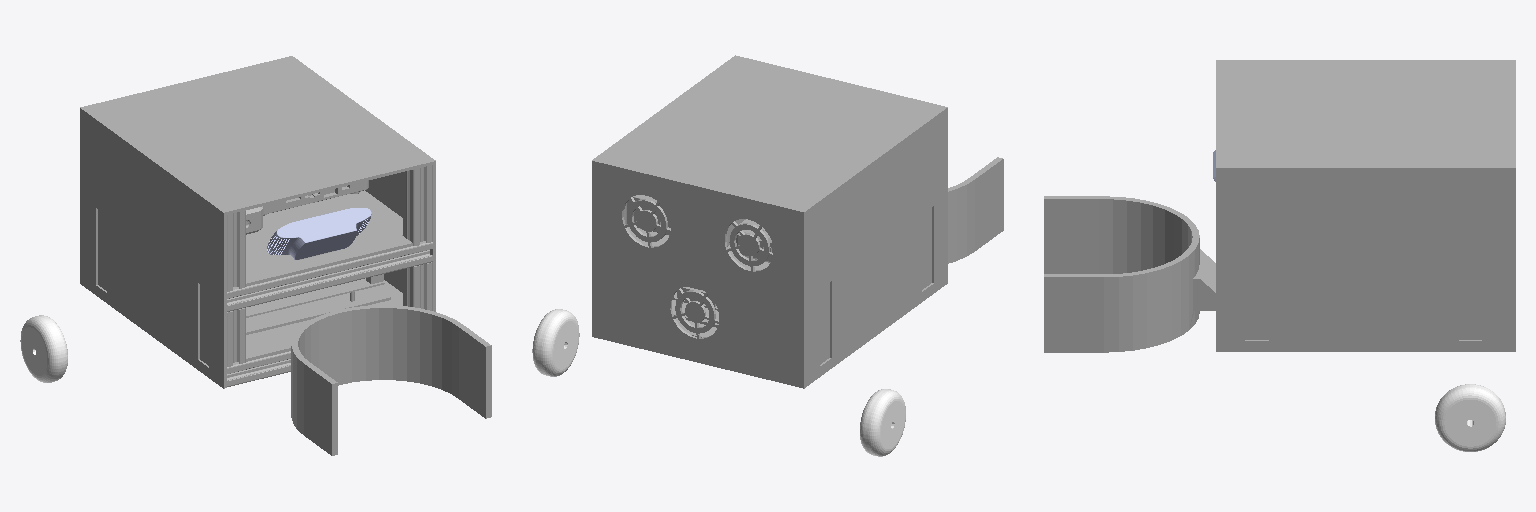
robot.urdf — 4wheel:
<?xml version="1.0" encoding="utf-8"?>
<!-- This URDF was automatically created by SolidWorks to URDF Exporter! Originally created by [author] ([email redacted]) 
     Commit Version: 1.5.1-0-g916b5db  Build Version: 1.5.7152.31018
     For more information, please see http://wiki.ros.org/sw_urdf_exporter -->
<robot
  name="4wheel">
  <link
    name="Body">
    <inertial>
      <origin
        xyz="0.108885138044438 0.142308649679038 0.0585567936495662"
        rpy="0 0 0" />
      <mass
        value="5.32485366509137" />
      <inertia
        ixx="0.0219378727233069"
        ixy="1.47975198134048E-06"
        ixz="-4.01751561825009E-06"
        iyy="0.0149047739346839"
        iyz="7.80337093935876E-06"
        izz="0.023203020823872" />
    </inertial>
    <visual>
      <origin
        xyz="0 0 0"
        rpy="0 0 0" />
      <geometry>
        <mesh
          filename="package://4wheel/meshes/Body.STL" />
      </geometry>
      <material
        name="">
        <color
          rgba="0.752941176470588 0.752941176470588 0.752941176470588 1" />
      </material>
    </visual>
    <collision>
      <origin
        xyz="0 0 0"
        rpy="0 0 0" />
      <geometry>
        <mesh
          filename="package://4wheel/meshes/Body.STL" />
      </geometry>
    </collision>
  </link>
  <link
    name="LFS">
    <inertial>
      <origin
        xyz="0.0666875210853818 -0.0256174029954353 0.0272583251967585"
        rpy="0 0 0" />
      <mass
        value="0.26437001106024" />
      <inertia
        ixx="3.20746276473133E-05"
        ixy="-1.44118283521332E-07"
        ixz="-6.3085308434461E-08"
        iyy="6.22704126338855E-05"
        iyz="-2.01894652764198E-07"
        izz="6.28519936954E-05" />
    </inertial>
    <visual>
      <origin
        xyz="0 0 0"
        rpy="0 0 0" />
      <geometry>
        <mesh
          filename="package://4wheel/meshes/LFS.STL" />
      </geometry>
      <material
        name="">
        <color
          rgba="0.752941176470588 0.752941176470588 0.752941176470588 1" />
      </material>
    </visual>
    <collision>
      <origin
        xyz="0 0 0"
        rpy="0 0 0" />
      <geometry>
        <mesh
          filename="package://4wheel/meshes/LFS.STL" />
      </geometry>
    </collision>
  </link>
  <joint
    name="LFS"
    type="prismatic">
    <origin
      xyz="0.315160991135077 0.0508115623588095 0.0264270997401359"
      rpy="2.8339623757072 0 3.14159265358979" />
    <parent
      link="Body" />
    <child
      link="LFS" />
    <axis
      xyz="0 0.302801016091279 -0.953053799454201" />
    <limit
      lower="0"
      upper="0"
      effort="0"
      velocity="0" />
  </joint>
  <link
    name="LFW">
    <inertial>
      <origin
        xyz="-0.00841099113507676 0 0"
        rpy="0 0 0" />
      <mass
        value="0.238771211024829" />
      <inertia
        ixx="0.000299070391410014"
        ixy="-1.55250782770794E-21"
        ixz="2.56332672441179E-22"
        iyy="0.000167368400731884"
        iyz="0"
        izz="0.000167368400731884" />
    </inertial>
    <visual>
      <origin
        xyz="0 0 0"
        rpy="0 0 0" />
      <geometry>
        <mesh
          filename="package://4wheel/meshes/LFW.STL" />
      </geometry>
      <material
        name="">
        <color
          rgba="1 1 1 1" />
      </material>
    </visual>
    <collision>
      <origin
        xyz="0 0 0"
        rpy="0 0 0" />
      <geometry>
        <mesh
          filename="package://4wheel/meshes/LFW.STL" />
      </geometry>
    </collision>
  </link>
  <joint
    name="LFW"
    type="continuous">
    <origin
      xyz="0 -0.047479 0.052309"
      rpy="-2.4847 0 3.1416" />
    <parent
      link="LFS" />
    <child
      link="LFW" />
    <axis
      xyz="1 0 0" />
    <limit
      effort="3.1"
      velocity="7" />
  </joint>
  <link
    name="RFS">
    <inertial>
      <origin
        xyz="0.0724473276378503 -0.0316832521314763 0.0253402400459297"
        rpy="0 0 0" />
      <mass
        value="0.26437001106024" />
      <inertia
        ixx="3.20746276473134E-05"
        ixy="1.44118283521343E-07"
        ixz="6.30853084344519E-08"
        iyy="6.22704126338856E-05"
        iyz="-2.01894652764195E-07"
        izz="6.28519936954001E-05" />
    </inertial>
    <visual>
      <origin
        xyz="0 0 0"
        rpy="0 0 0" />
      <geometry>
        <mesh
          filename="package://4wheel/meshes/RFS.STL" />
      </geometry>
      <material
        name="">
        <color
          rgba="0.752941176470588 0.752941176470588 0.752941176470588 1" />
      </material>
    </visual>
    <collision>
      <origin
        xyz="0 0 0"
        rpy="0 0 0" />
      <geometry>
        <mesh
          filename="package://4wheel/meshes/RFS.STL" />
      </geometry>
    </collision>
  </link>
  <joint
    name="RFS"
    type="prismatic">
    <origin
      xyz="-0.10492 0.012128 0.026427"
      rpy="2.834 0 0" />
    <parent
      link="Body" />
    <child
      link="RFS" />
    <axis
      xyz="0 0.3028 -0.95305" />
    <limit
      lower="0"
      upper="0"
      effort="0"
      velocity="0" />
  </joint>
  <link
    name="RFW">
    <inertial>
      <origin
        xyz="-0.0141707976875452 -3.46944695195361E-18 0"
        rpy="0 0 0" />
      <mass
        value="0.238771211024828" />
      <inertia
        ixx="0.000299070391410013"
        ixy="7.60876064294631E-22"
        ixz="1.92785199737845E-21"
        iyy="0.000167368400731884"
        iyz="8.470329472543E-22"
        izz="0.000167368400731884" />
    </inertial>
    <visual>
      <origin
        xyz="0 0 0"
        rpy="0 0 0" />
      <geometry>
        <mesh
          filename="package://4wheel/meshes/RFW.STL" />
      </geometry>
      <material
        name="">
        <color
          rgba="1 1 1 1" />
      </material>
    </visual>
    <collision>
      <origin
        xyz="0 0 0"
        rpy="0 0 0" />
      <geometry>
        <mesh
          filename="package://4wheel/meshes/RFW.STL" />
      </geometry>
    </collision>
  </link>
  <joint
    name="RFW"
    type="continuous">
    <origin
      xyz="0 -0.028286 0.058405"
      rpy="-0.36547 0 3.1416" />
    <parent
      link="RFS" />
    <child
      link="RFW" />
    <axis
      xyz="-1 0 0" />
    <limit
      effort="3.1"
      velocity="7" />
  </joint>
  <link
    name="LBS">
    <inertial>
      <origin
        xyz="0.0754022136877308 -0.0206011352566388 0.0126264314730555"
        rpy="0 0 0" />
      <mass
        value="0.197009126147877" />
      <inertia
        ixx="1.68802738687172E-05"
        ixy="-4.8069344421324E-21"
        ixz="2.20361547124267E-20"
        iyy="5.02184885667569E-05"
        iyz="1.0508875929185E-06"
        izz="4.72447473350486E-05" />
    </inertial>
    <visual>
      <origin
        xyz="0 0 0"
        rpy="0 0 0" />
      <geometry>
        <mesh
          filename="package://4wheel/meshes/LBS.STL" />
      </geometry>
      <material
        name="">
        <color
          rgba="0.752941176470588 0.752941176470588 0.752941176470588 1" />
      </material>
    </visual>
    <collision>
      <origin
        xyz="0 0 0"
        rpy="0 0 0" />
      <geometry>
        <mesh
          filename="package://4wheel/meshes/LBS.STL" />
      </geometry>
    </collision>
  </link>
  <joint
    name="LBS"
    type="prismatic">
    <origin
      xyz="0.31516 0.23081 0.01777"
      rpy="2.834 0 3.1416" />
    <parent
      link="Body" />
    <child
      link="LBS" />
    <axis
      xyz="0 0.3028 -0.95305" />
    <limit
      lower="0"
      upper="0"
      effort="0"
      velocity="0" />
  </joint>
  <link
    name="LBC">
    <inertial>
      <origin
        xyz="3.69517158149701E-07 -0.0414091858174605 0"
        rpy="0 0 0" />
      <mass
        value="0.0227542250833331" />
      <inertia
        ixx="9.89955638664047E-06"
        ixy="2.38712140060369E-10"
        ixz="-8.13631800520925E-22"
        iyy="3.71555891872553E-06"
        iyz="8.40860599391821E-22"
        izz="1.08253870221592E-05" />
    </inertial>
    <visual>
      <origin
        xyz="0 0 0"
        rpy="0 0 0" />
      <geometry>
        <mesh
          filename="package://4wheel/meshes/LBC.STL" />
      </geometry>
      <material
        name="">
        <color
          rgba="0.792156862745098 0.819607843137255 0.933333333333333 1" />
      </material>
    </visual>
    <collision>
      <origin
        xyz="0 0 0"
        rpy="0 0 0" />
      <geometry>
        <mesh
          filename="package://4wheel/meshes/LBC.STL" />
      </geometry>
    </collision>
  </link>
  <joint
    name="LBC"
    type="continuous">
    <origin
      xyz="0.0411609911350768 -0.0168161225554978 0.000713258979877972"
      rpy="-1.87842660467749 0 3.14159265358979" />
    <parent
      link="LBS" />
    <child
      link="LBC" />
    <axis
      xyz="0 1 0" />
  </joint>
  <link
    name="LBW">
    <inertial>
      <origin
        xyz="-1.26692255714156E-05 0 0"
        rpy="0 0 0" />
      <mass
        value="0.0520359417797529" />
      <inertia
        ixx="2.19659115893153E-05"
        ixy="-1.00333801524274E-21"
        ixz="1.13493085902278E-21"
        iyy="1.25404547339816E-05"
        iyz="0"
        izz="1.25404547339816E-05" />
    </inertial>
    <visual>
      <origin
        xyz="0 0 0"
        rpy="0 0 0" />
      <geometry>
        <mesh
          filename="package://4wheel/meshes/LBW.STL" />
      </geometry>
      <material
        name="">
        <color
          rgba="1 1 1 1" />
      </material>
    </visual>
    <collision>
      <origin
        xyz="0 0 0"
        rpy="0 0 0" />
      <geometry>
        <mesh
          filename="package://4wheel/meshes/LBW.STL" />
      </geometry>
    </collision>
  </link>
  <joint
    name="LBW"
    type="continuous">
    <origin
      xyz="0 -0.0698 0"
      rpy="-2.9677 0 0" />
    <parent
      link="LBC" />
    <child
      link="LBW" />
    <axis
      xyz="1 0 0" />
    <limit
      effort="3.1"
      velocity="7" />
  </joint>
  <link
    name="RBS">
    <inertial>
      <origin
        xyz="0.0754022136877307 -0.0206011352566361 0.0126264314730565"
        rpy="0 0 0" />
      <mass
        value="0.197009126147877" />
      <inertia
        ixx="1.68802738687172E-05"
        ixy="1.02896294767269E-20"
        ixz="-2.43487583017138E-20"
        iyy="5.0218488566757E-05"
        iyz="1.0508875929185E-06"
        izz="4.72447473350487E-05" />
    </inertial>
    <visual>
      <origin
        xyz="0 0 0"
        rpy="0 0 0" />
      <geometry>
        <mesh
          filename="package://4wheel/meshes/RBS.STL" />
      </geometry>
      <material
        name="">
        <color
          rgba="0.752941176470588 0.752941176470588 0.752941176470588 1" />
      </material>
    </visual>
    <collision>
      <origin
        xyz="0 0 0"
        rpy="0 0 0" />
      <geometry>
        <mesh
          filename="package://4wheel/meshes/RBS.STL" />
      </geometry>
    </collision>
  </link>
  <joint
    name="RBS"
    type="prismatic">
    <origin
      xyz="-0.099161 0.19919 0.01777"
      rpy="2.834 0 0" />
    <parent
      link="Body" />
    <child
      link="RBS" />
    <axis
      xyz="0 0.3028 -0.95305" />
    <limit
      lower="0"
      upper="0"
      effort="0"
      velocity="0" />
  </joint>
  <link
    name="RBC">
    <inertial>
      <origin
        xyz="3.6951715815664E-07 -0.0414091858174606 0"
        rpy="0 0 0" />
      <mass
        value="0.0227542250833332" />
      <inertia
        ixx="9.89955638664048E-06"
        ixy="2.38712140064222E-10"
        ixz="5.55865371635635E-22"
        iyy="3.71555891872553E-06"
        iyz="-1.04594403517916E-21"
        izz="1.08253870221592E-05" />
    </inertial>
    <visual>
      <origin
        xyz="0 0 0"
        rpy="0 0 0" />
      <geometry>
        <mesh
          filename="package://4wheel/meshes/RBC.STL" />
      </geometry>
      <material
        name="">
        <color
          rgba="0.792156862745098 0.819607843137255 0.933333333333333 1" />
      </material>
    </visual>
    <collision>
      <origin
        xyz="0 0 0"
        rpy="0 0 0" />
      <geometry>
        <mesh
          filename="package://4wheel/meshes/RBC.STL" />
      </geometry>
    </collision>
  </link>
  <joint
    name="RBC"
    type="continuous">
    <origin
      xyz="0.0411609911350767 -0.0168161225554951 0.000713258979878978"
      rpy="-1.26320346041911 0.00487553880916033 -0.0153462827143552" />
    <parent
      link="RBS" />
    <child
      link="RBC" />
    <axis
      xyz="0 1 0" />
  </joint>
  <link
    name="RBW">
    <inertial>
      <origin
        xyz="-1.2669225571485E-05 0 0"
        rpy="0 0 0" />
      <mass
        value="0.0520359417797529" />
      <inertia
        ixx="2.19659115893153E-05"
        ixy="2.11758236813575E-22"
        ixz="1.17790519227551E-21"
        iyy="1.25404547339816E-05"
        iyz="-1.27054942088145E-21"
        izz="1.25404547339816E-05" />
    </inertial>
    <visual>
      <origin
        xyz="0 0 0"
        rpy="0 0 0" />
      <geometry>
        <mesh
          filename="package://4wheel/meshes/RBW.STL" />
      </geometry>
      <material
        name="">
        <color
          rgba="1 1 1 1" />
      </material>
    </visual>
    <collision>
      <origin
        xyz="0 0 0"
        rpy="0 0 0" />
      <geometry>
        <mesh
          filename="package://4wheel/meshes/RBW.STL" />
      </geometry>
    </collision>
  </link>
  <joint
    name="RBW"
    type="continuous">
    <origin
      xyz="0 -0.0698 0"
      rpy="-0.70587 0 -3.1416" />
    <parent
      link="RBC" />
    <child
      link="RBW" />
    <axis
      xyz="-1 0 0" />
    <limit
      effort="3.1"
      velocity="7" />
  </joint>
  <link
    name="front_cam">
    <inertial>
      <origin
        xyz="0.0498359968949385 0.0617836354959193 0.0687226592240569"
        rpy="0 0 0" />
      <mass
        value="0.0436119950287128" />
      <inertia
        ixx="4.29479133591131E-06"
        ixy="-8.85791114123034E-10"
        ixz="-1.01813691701115E-09"
        iyy="2.21058141232447E-05"
        iyz="2.17579681215275E-08"
        izz="2.35707058046401E-05" />
    </inertial>
    <visual>
      <origin
        xyz="0 0 0"
        rpy="0 0 0" />
      <geometry>
        <mesh
          filename="package://4wheel/meshes/front_cam.STL" />
      </geometry>
      <material
        name="">
        <color
          rgba="0.792156862745098 0.819607843137255 0.933333333333333 1" />
      </material>
    </visual>
    <collision>
      <origin
        xyz="0 0 0"
        rpy="0 0 0" />
      <geometry>
        <mesh
          filename="package://4wheel/meshes/front_cam.STL" />
      </geometry>
    </collision>
  </link>
  <joint
    name="front_cam"
    type="fixed">
    <origin
      xyz="0.058161 0.080278 0.069504"
      rpy="1.5708 0 0" />
    <parent
      link="Body" />
    <child
      link="front_cam" />
    <axis
      xyz="0 0 0" />
  </joint>
  <link
    name="ball_cam">
    <inertial>
      <origin
        xyz="0.0498359969149469 0.0617836350059216 -0.00374618107744314"
        rpy="0 0 0" />
      <mass
        value="0.0436119951630768" />
      <inertia
        ixx="4.29479053059232E-06"
        ixy="-8.85260765925042E-10"
        ixz="-1.01843552507111E-09"
        iyy="2.21058148138203E-05"
        iyz="2.17580969417575E-08"
        izz="2.35707057054937E-05" />
    </inertial>
    <visual>
      <origin
        xyz="0 0 0"
        rpy="0 0 0" />
      <geometry>
        <mesh
          filename="package://4wheel/meshes/ball_cam.STL" />
      </geometry>
      <material
        name="">
        <color
          rgba="0.792156862745098 0.819607843137255 0.933333333333333 1" />
      </material>
    </visual>
    <collision>
      <origin
        xyz="0 0 0"
        rpy="0 0 0" />
      <geometry>
        <mesh
          filename="package://4wheel/meshes/ball_cam.STL" />
      </geometry>
    </collision>
  </link>
  <joint
    name="ball_cam"
    type="fixed">
    <origin
      xyz="0.058165 0.048961 0.044286"
      rpy="2.2021 0 0" />
    <parent
      link="Body" />
    <child
      link="ball_cam" />
    <axis
      xyz="0 0 0" />
  </joint>
  <link
    name="Lidar">
    <inertial>
      <origin
        xyz="-0.0784930224009142 -0.74442743376688 -0.133449662212527"
        rpy="0 0 0" />
      <mass
        value="0.0730845703902162" />
      <inertia
        ixx="1.95808756635695E-05"
        ixy="4.28391179298426E-07"
        ixz="-1.03933565415068E-07"
        iyy="4.14184515330581E-05"
        iyz="-9.42709167560441E-09"
        izz="2.41250078994433E-05" />
    </inertial>
    <visual>
      <origin
        xyz="0 0 0"
        rpy="0 0 0" />
      <geometry>
        <mesh
          filename="package://4wheel/meshes/Lidar.STL" />
      </geometry>
      <material
        name="">
        <color
          rgba="0.792156862745098 0.819607843137255 0.933333333333333 1" />
      </material>
    </visual>
    <collision>
      <origin
        xyz="0 0 0"
        rpy="0 0 0" />
      <geometry>
        <mesh
          filename="package://4wheel/meshes/Lidar.STL" />
      </geometry>
    </collision>
  </link>
  <joint
    name="Lidar"
    type="fixed">
    <origin
      xyz="0.240917570962768 0.0985608536718709 -0.571694502755536"
      rpy="-1.5707963267949 0 -1.5707963267949" />
    <parent
      link="Body" />
    <child
      link="Lidar" />
    <axis
      xyz="0 0 0" />
  </joint>
</robot>

--- Render facts (derived) ---
3 views of the same robot in one strip: view 1: azimuth 30°, elevation 25°; view 2: azimuth 150°, elevation 25°; view 3: azimuth 270°, elevation 25° (orthographic).
Model 4wheel with 14 links and 13 joints (6 continuous, 4 prismatic, 3 fixed), rooted at Body, posed every joint at zero.
Visible links, largest first — view 1: Body, ball_cam, RBW; view 2: Body, LBW, RBW; view 3: Body, LBW.
Link boxes in pixels (left/top/right/bottom): Body: left=80, top=56, right=491, bottom=455; ball_cam: left=267, top=208, right=371, bottom=259; RBW: left=20, top=315, right=67, bottom=382; Body: left=592, top=55, right=1003, bottom=388; LBW: left=532, top=309, right=579, bottom=376; RBW: left=860, top=389, right=905, bottom=456; Body: left=1044, top=60, right=1515, bottom=352; LBW: left=1435, top=384, right=1505, bottom=451.
Size in the robot's own frame: 0.3523 by 0.3973 by 0.2358 metres.
4 mesh visuals loaded from 14 distinct referenced files (4 binary STL); not drawn: 10 (reference not matched to a file when rendering).